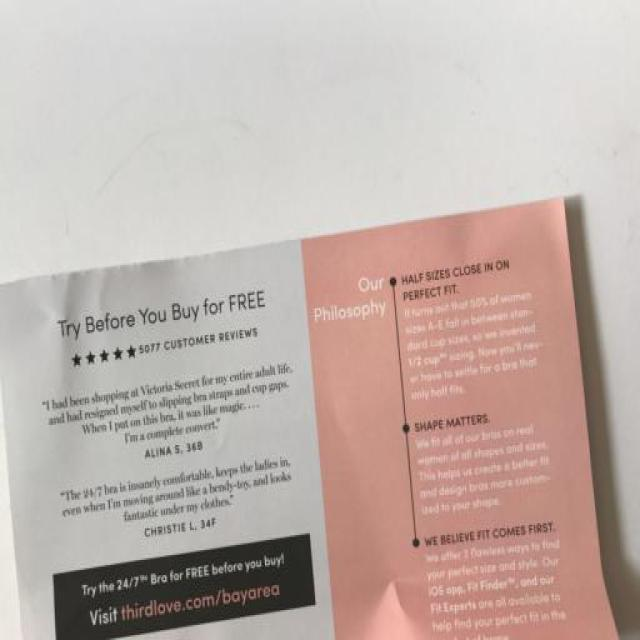paper: (0, 194, 624, 638)
